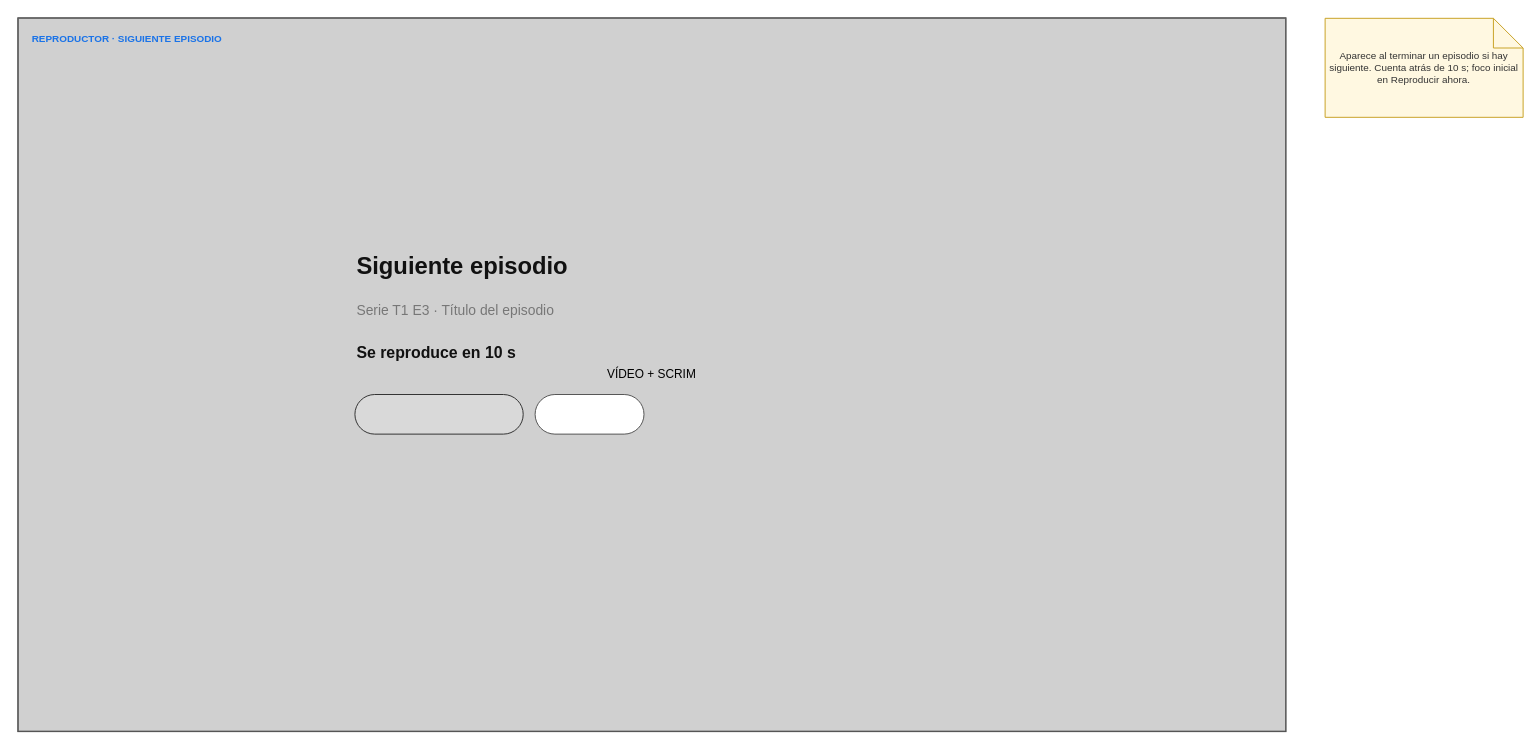
This 1540x748 diagram has some shape labels left out. Each missing label, with the box of its shape:
Cancelar: (534, 394, 644, 434)
Reproducir ahora: (354, 394, 523, 434)
